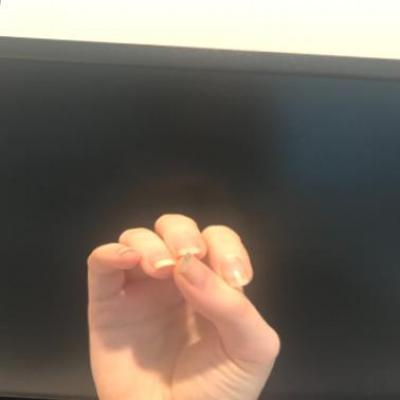hand: (70, 204, 294, 399)
